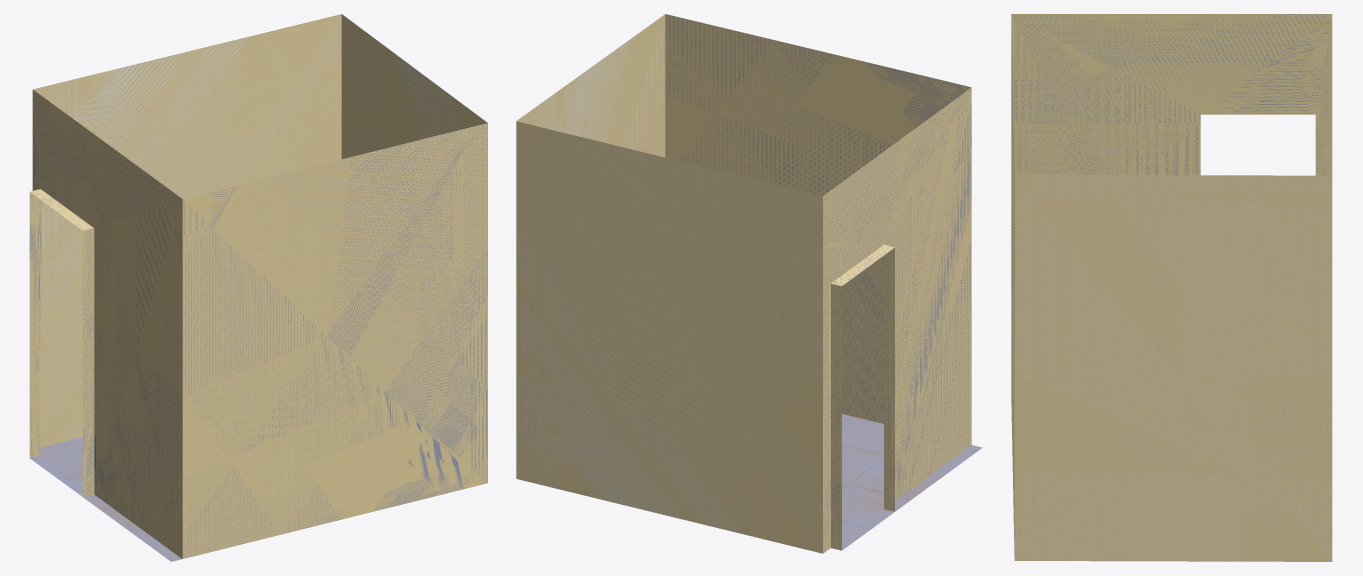
The model's file is CUA015.obj.
3 renders of one model, left to right at view 1: azimuth 30°, elevation 25°; view 2: azimuth 150°, elevation 25°; view 3: azimuth 270°, elevation 25°, orthographic. The views are drawn at different scales.
Visible parts, largest first — view 1: Mesh1 CUA015 Model; view 2: Mesh1 CUA015 Model; view 3: Mesh1 CUA015 Model.
Part boxes in pixels (bbox=[...]): Mesh1 CUA015 Model: bbox=[29, 14, 487, 561]; Mesh1 CUA015 Model: bbox=[516, 14, 982, 553]; Mesh1 CUA015 Model: bbox=[1011, 14, 1332, 561].
Size of the model in its own units: 3.35 by 3.6 by 2.85.
4 materials, 1 textured.
